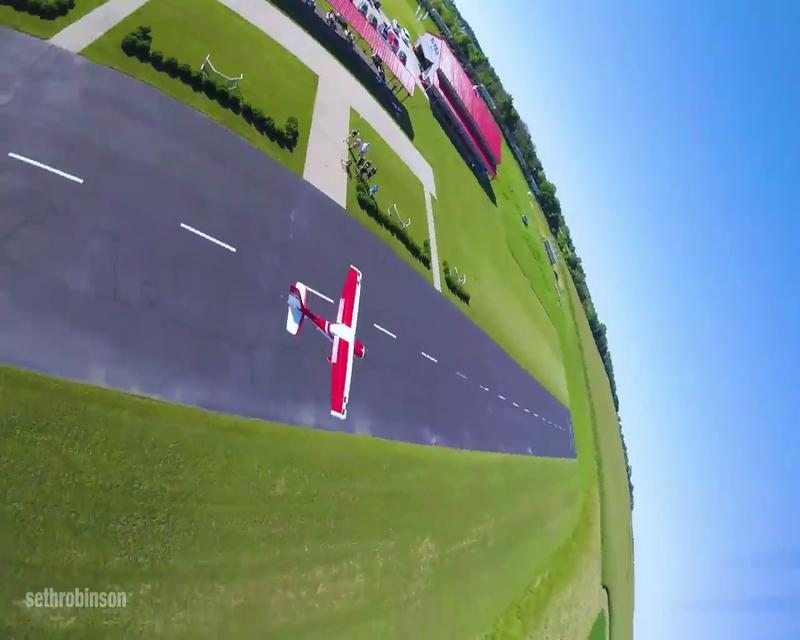UAV: (285, 264, 368, 420)
